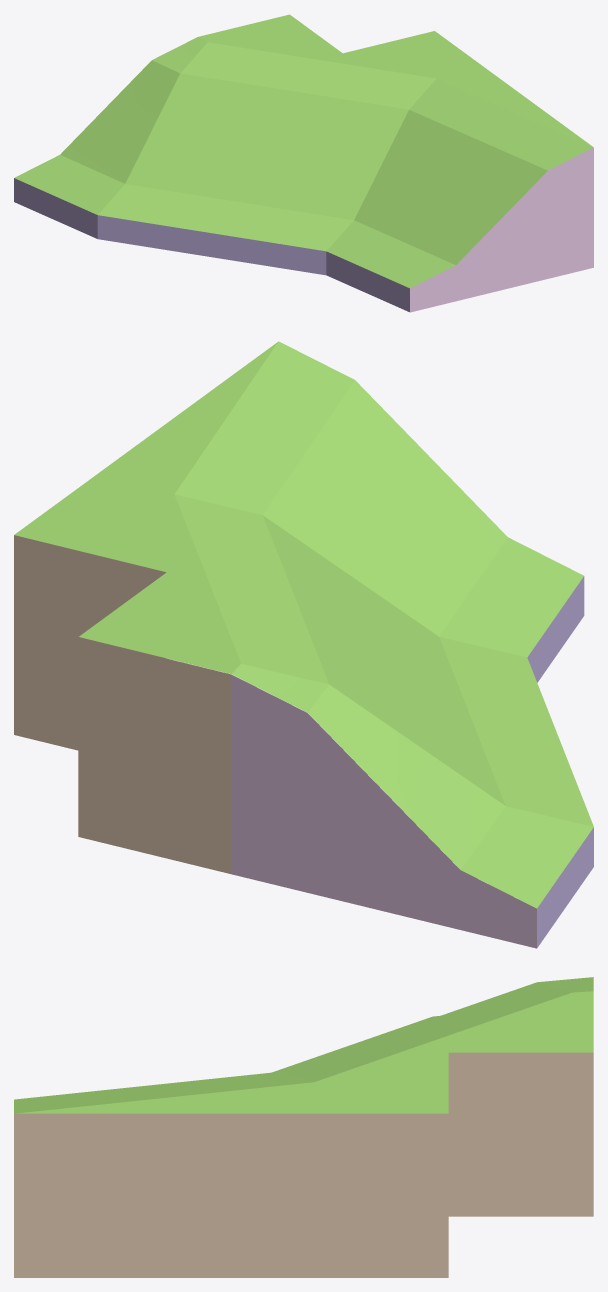
The model's file is Grass_Hill_Sharp_Esse_4x4.glb.
3 views of the same model, one above another, from view 1: azimuth 30°, elevation 25°; view 2: azimuth 150°, elevation 25°; view 3: azimuth 270°, elevation 25° (orthographic). The views are drawn at different scales.
Parts seen in each view (by area): view 1: Grass_Hill_Sharp_Esse_4x4; view 2: Grass_Hill_Sharp_Esse_4x4; view 3: Grass_Hill_Sharp_Esse_4x4.
Boxes of the visible parts, left/top/right/bottom form: Grass_Hill_Sharp_Esse_4x4: left=14, top=14, right=593, bottom=312; Grass_Hill_Sharp_Esse_4x4: left=14, top=341, right=593, bottom=948; Grass_Hill_Sharp_Esse_4x4: left=14, top=977, right=593, bottom=1277.
Bounding box in the file's own units: 400 × 125 × 400.
